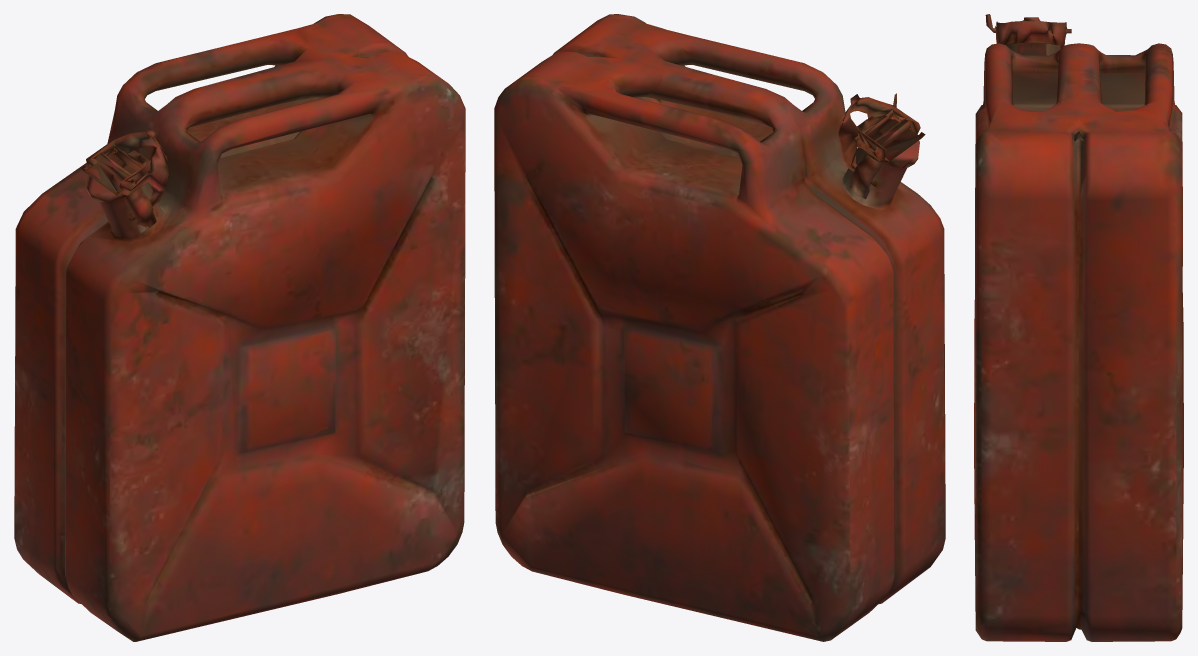
Rendered from metal_jerrycan.glb.
3 views of the same model, side by side, from view 1: azimuth 30°, elevation 25°; view 2: azimuth 150°, elevation 25°; view 3: azimuth 270°, elevation 25° (orthographic). The views are drawn at different scales.
Parts seen in each view (by area): view 1: metal_jerrycan; view 2: metal_jerrycan; view 3: metal_jerrycan.
Part boxes in pixels (box(x1,y1,x2,y2)): metal_jerrycan: box(14, 14, 465, 641); metal_jerrycan: box(494, 14, 945, 641); metal_jerrycan: box(974, 14, 1183, 641).
Size of the model in its own units: 0.3492 by 0.4549 by 0.1718.
Materials: 1 (1 with a texture image).
